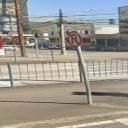NoVirarU: (66, 31, 83, 47)
